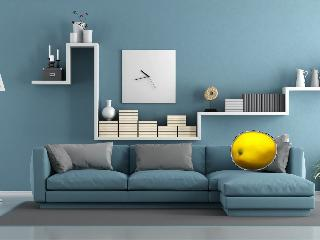lemon: (233, 132, 276, 169)
